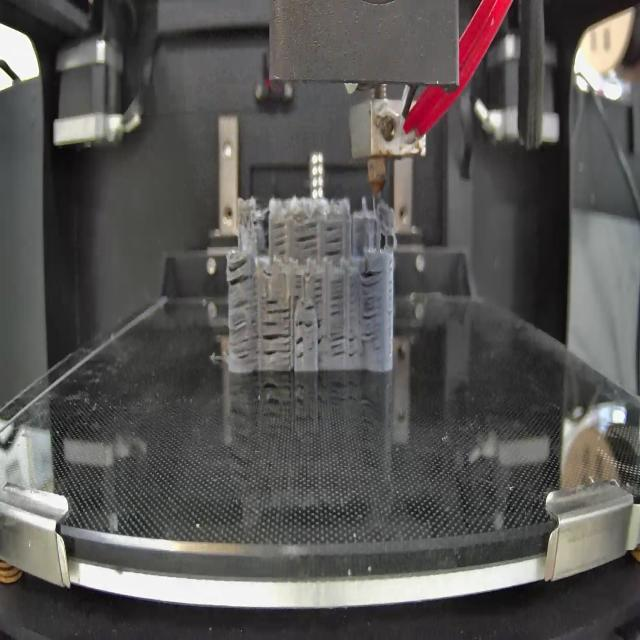cracks: (227, 300, 258, 361), (360, 269, 385, 343), (261, 320, 291, 366), (225, 255, 256, 288), (293, 220, 319, 259), (330, 328, 359, 362), (329, 272, 345, 318), (324, 225, 344, 261), (272, 218, 290, 254), (264, 295, 291, 317), (316, 317, 327, 364), (312, 276, 325, 304), (293, 273, 304, 302), (294, 335, 305, 363), (294, 318, 314, 330), (302, 303, 315, 315)
